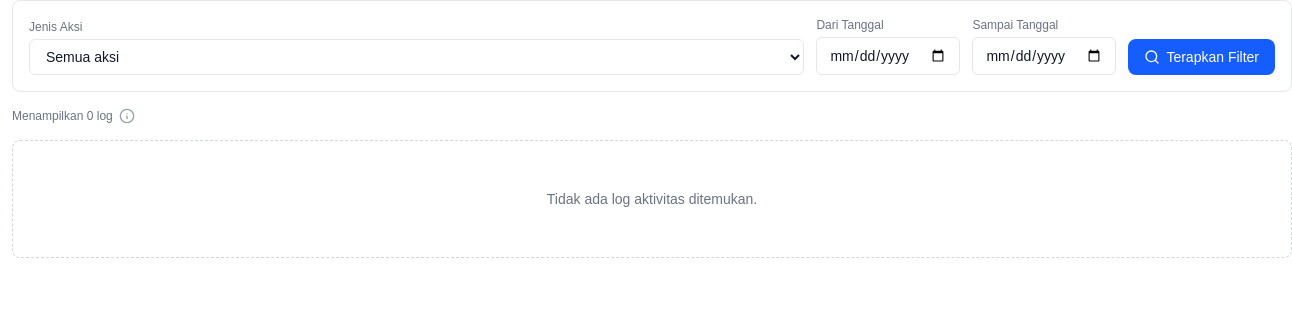
Scenario: ActivityLogTable › harus menampilkan error saat fetch filter gagal
Click the button "Terapkan Filter" at point(1202, 57), box [1128,39,1275,75]
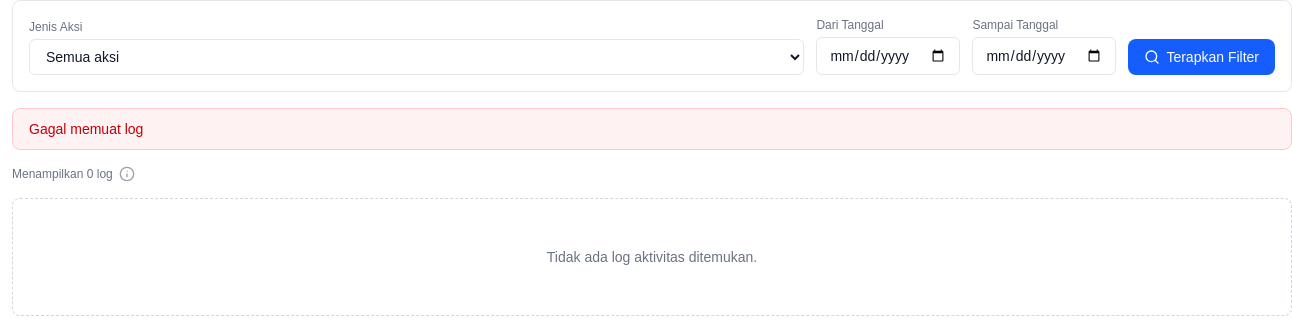
Check: the text "Gagal memuat log" is shown, box [12,108,1291,150]
